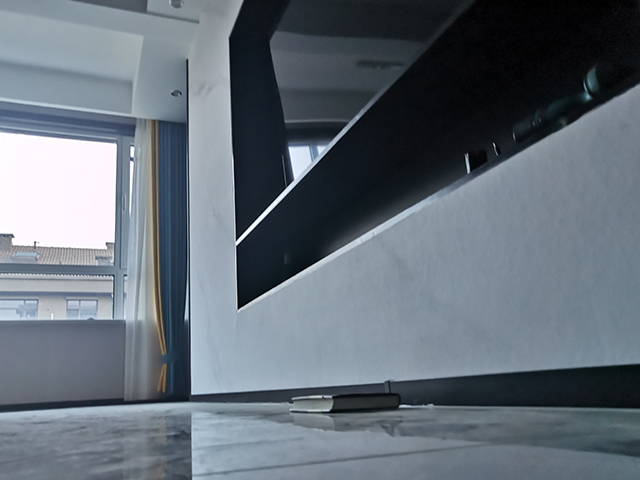book: (287, 390, 403, 415)
出来: (121, 116, 192, 403)
